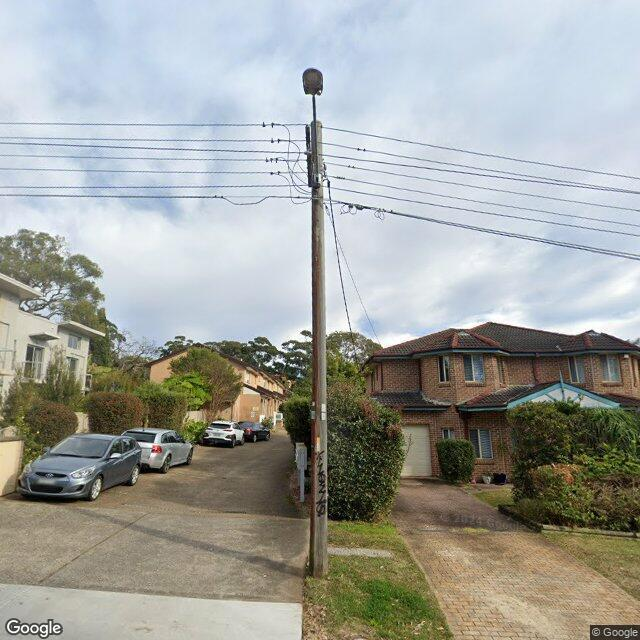crossarm: (305, 124, 312, 187)
streetlight: (302, 68, 323, 187)
timber-pole: (310, 120, 329, 578)
